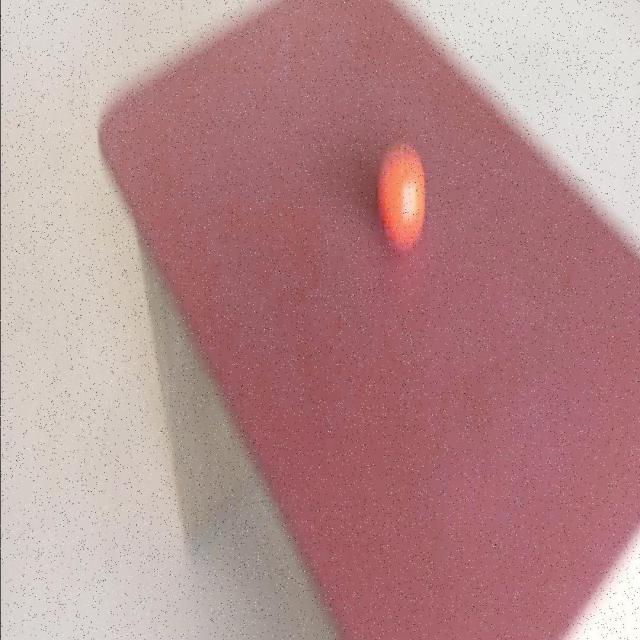Orange: (98, 0, 640, 640), (376, 140, 426, 250)
